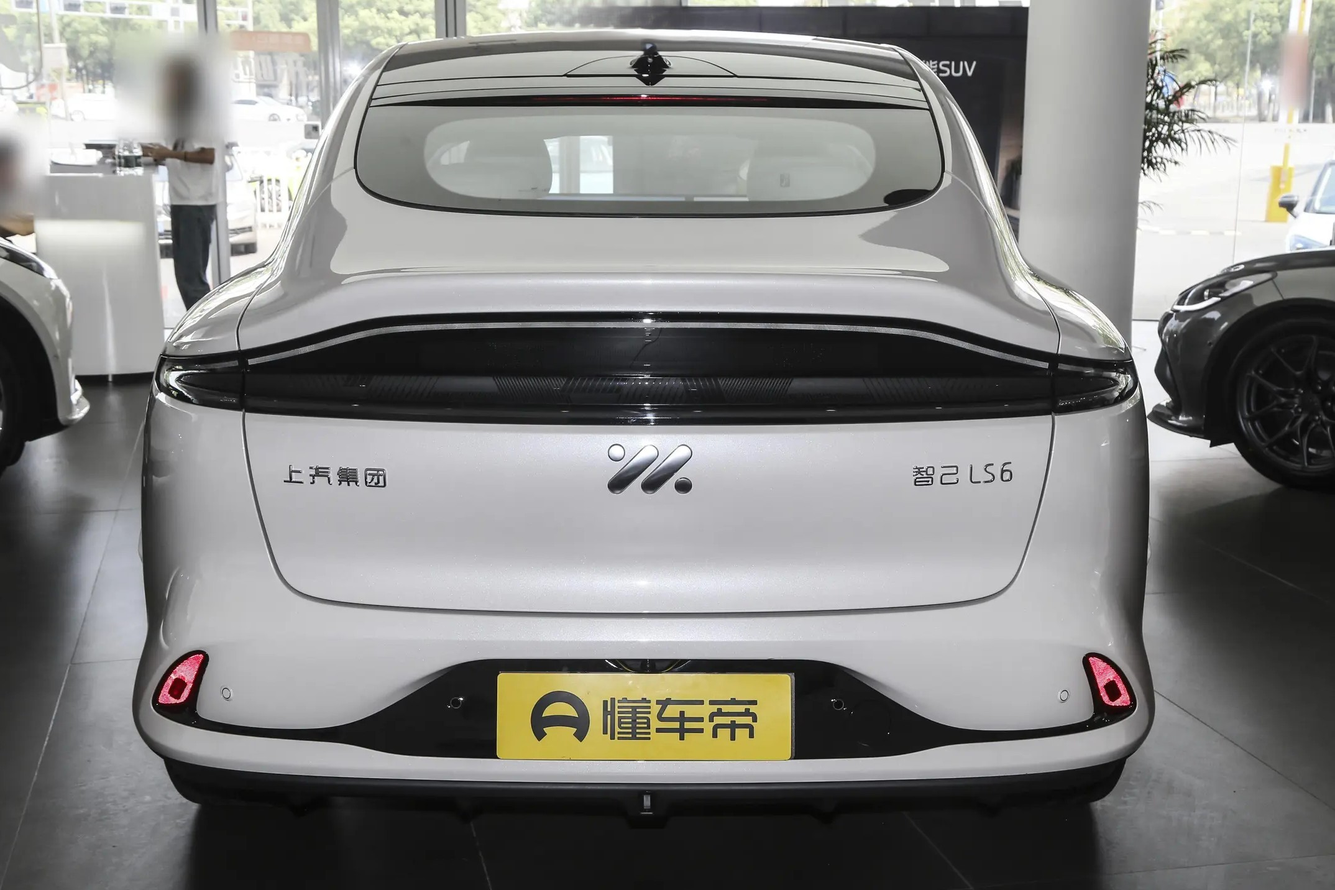IM: (608, 444, 692, 493)
